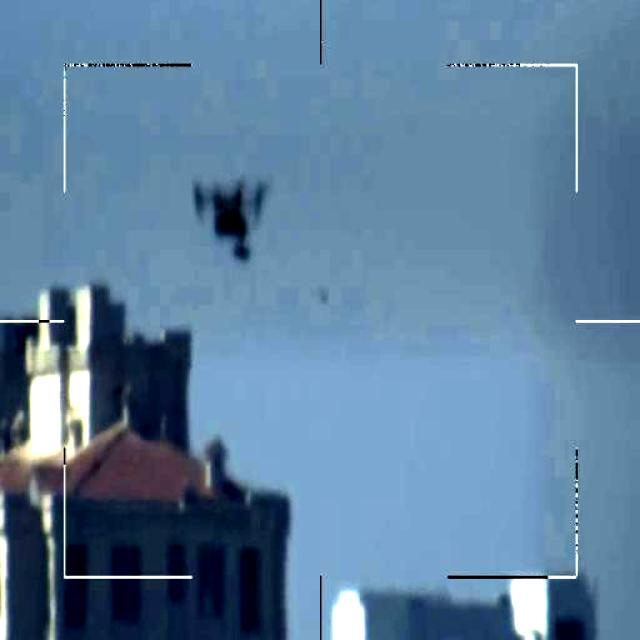bird: (192, 170, 268, 261)
